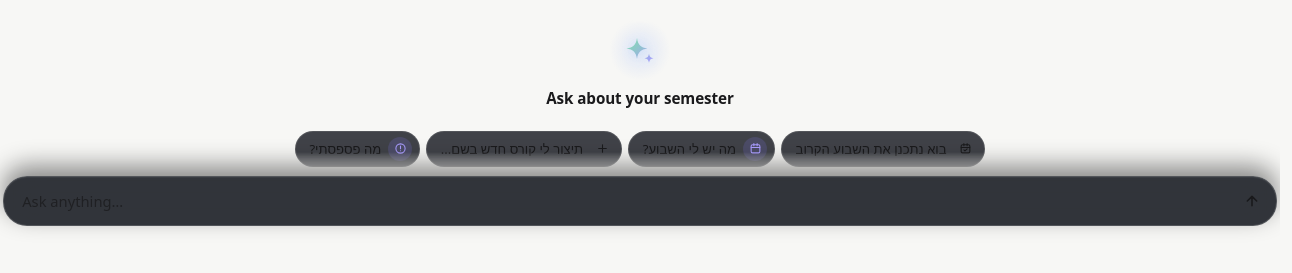
Test case: AgentPanel › shows errors and keeps them out of the history sent next
Click the button "מה פספסתי?": (357,149) [295,131,420,167]
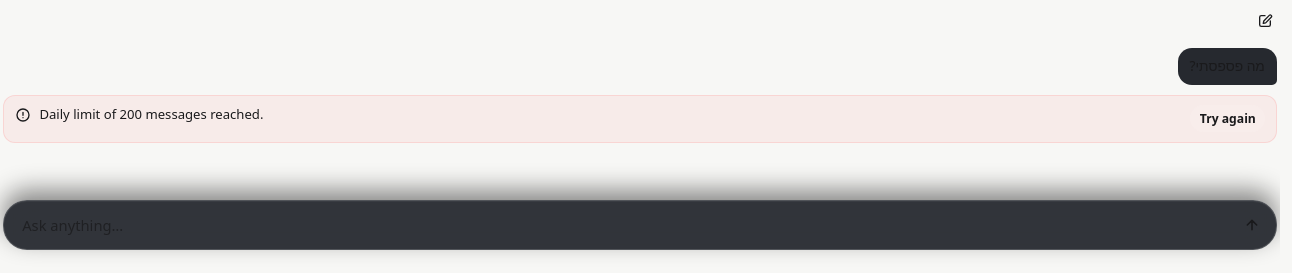
Expected: the text "Daily limit of 200 messages reached." is shown, [39,105,264,123]
In the text box: (620,225) [10,207,1229,243], type "again"
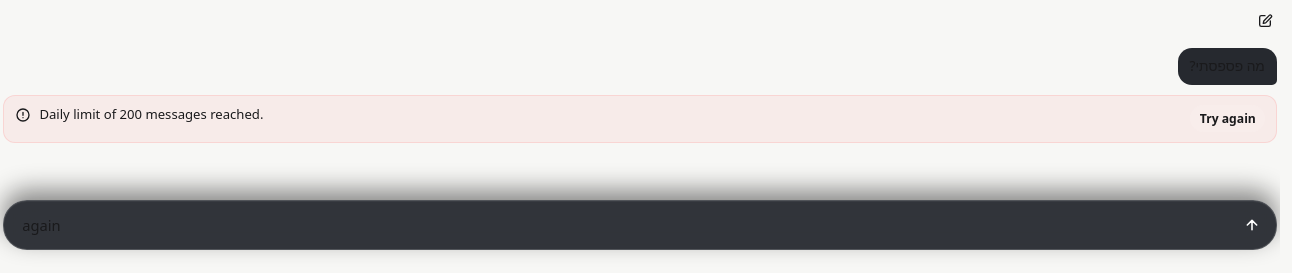
Click the button named "Send": (1252,225) [1234,207,1270,243]
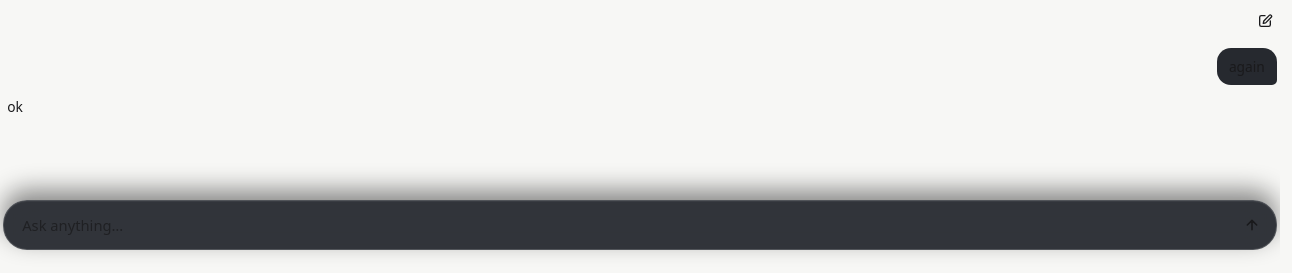
Expected: the text "ok" is shown, [7,97,23,116]
